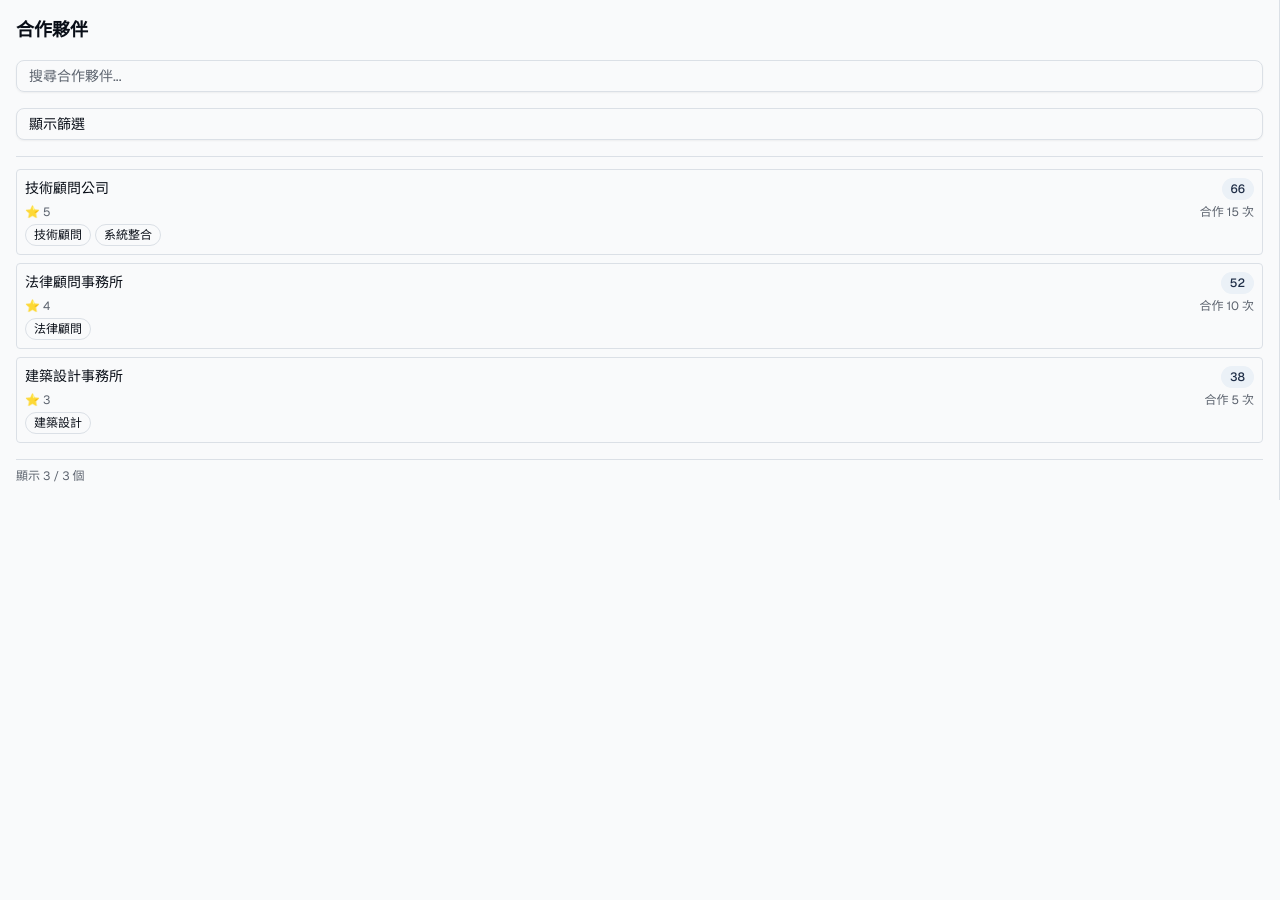
Test: PartnerSidebar › 應該支持過濾最低評分
Click the button "顯示篩選": (57, 124) [16,108,1263,140]
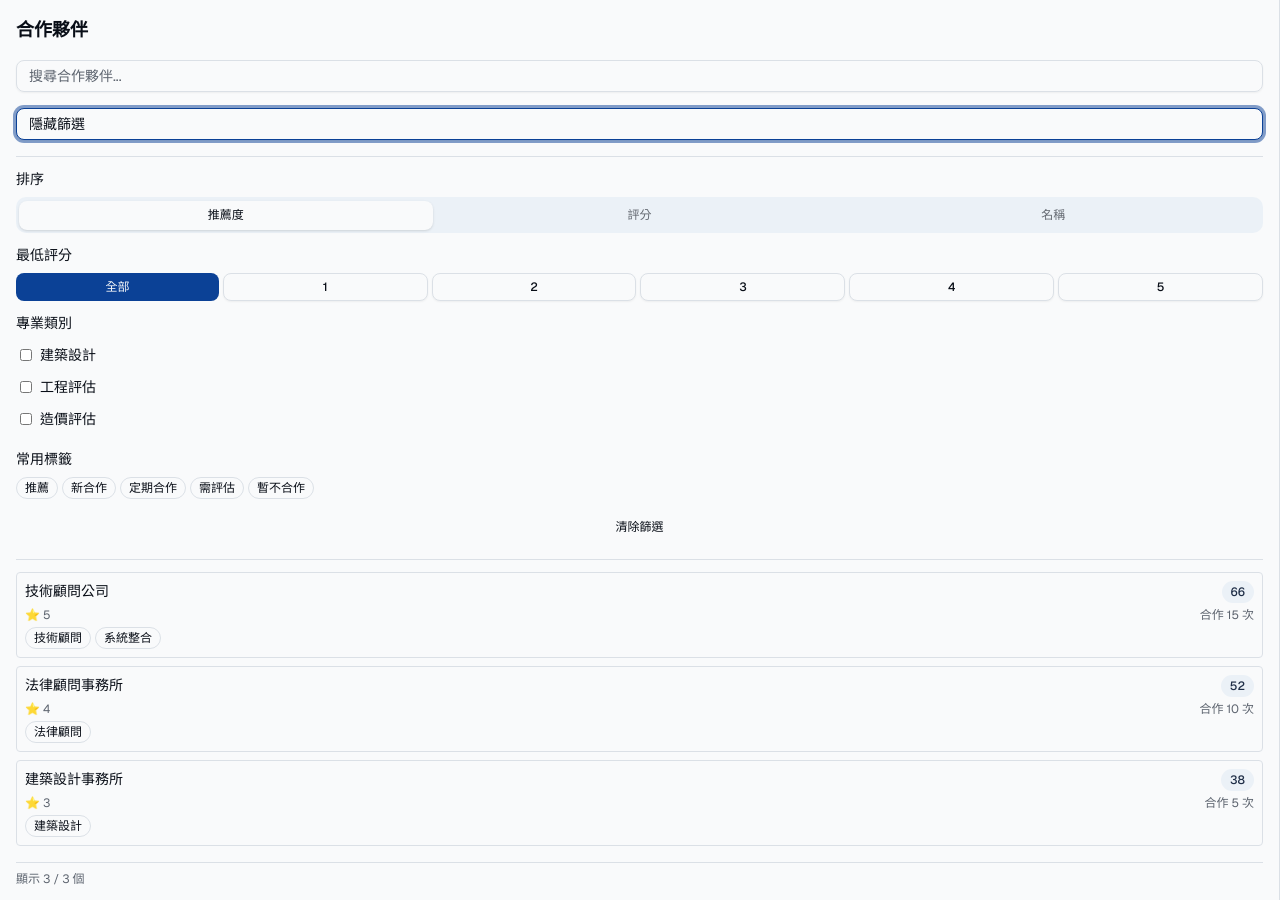
Click the button "4": (952, 287) [849,273,1054,301]
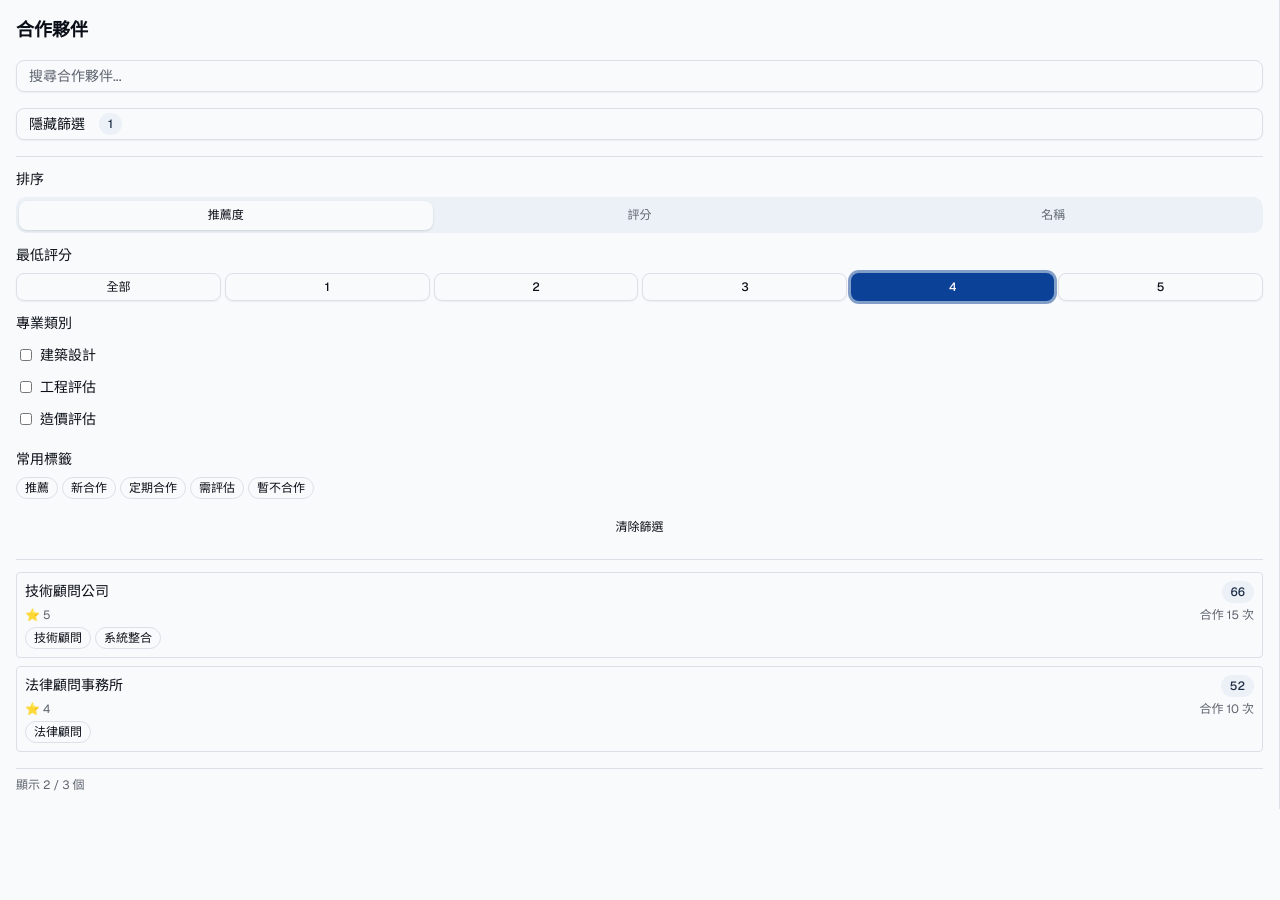
Expected: the text "技術顧問公司" is shown, [25,582,109,600]
Now the button "建築設計事務所" is gone
